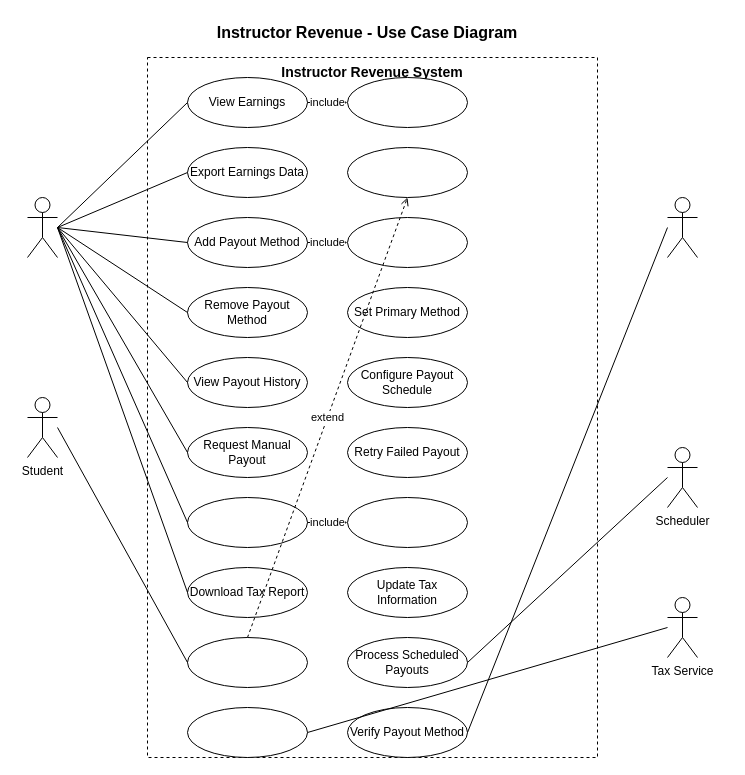
This 745x775 diagram has some shape labels left out. Each missing label, with the centre of its shape:
"Calculate Earnings" goes at (x=247, y=662).
"Edit Payout Method" goes at (x=407, y=242).
"Generate Tax Reports" goes at (x=247, y=732).
"Instructor" goes at (x=42, y=227).
"Payment System" goes at (x=682, y=227).
"Submit Tax Form" goes at (x=247, y=522).
"View Earnings Summary" goes at (x=407, y=102).
"View Revenue Breakdown" goes at (x=407, y=172).
"View Tax Forms" goes at (x=407, y=522).
